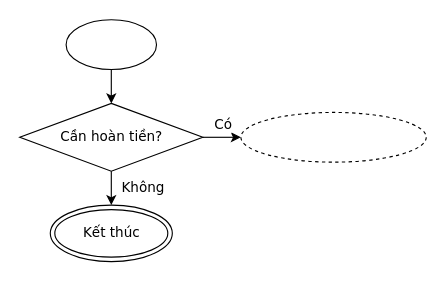
Image size: 446x281. Some labels were removed from this diagram. Here are the shapes that lost their labels. From the top down, the centre of each, then its label:
At point (111, 44): "Vào".
At point (333, 136): "Luồng hoàn tiền".
